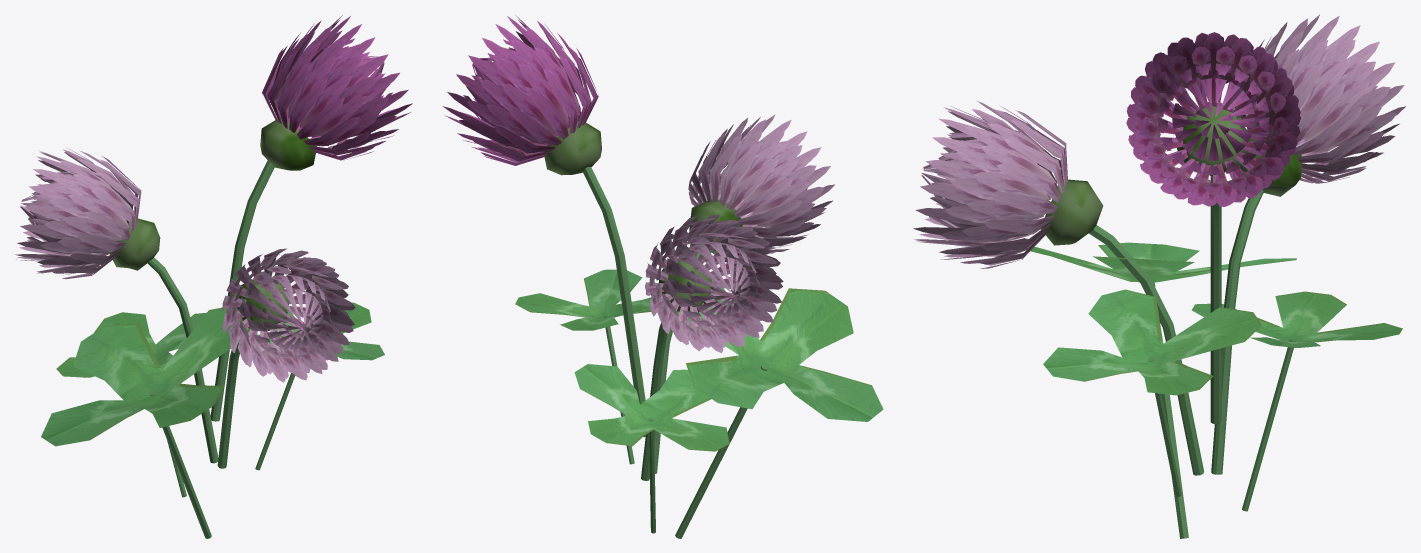
File: clovers.fbx
The picture shows the model from 3 angles, left to right: view 1: azimuth 30°, elevation 25°; view 2: azimuth 150°, elevation 25°; view 3: azimuth 270°, elevation 25°; orthographic projection. The views are drawn at different scales.
Parts seen in each view (by area): view 1: clover10, clover11; view 2: clover10, clover11; view 3: clover10, clover11.
Part boxes in pixels (x1,y1,x2,y2): clover10: (15,15,412,468); clover11: (41,302,384,538); clover10: (443,15,834,480); clover11: (515,269,883,538); clover10: (913,14,1405,475); clover11: (1030,242,1402,538).
Size of the model in its own units: 10.72 by 12.78 by 9.67.
2 materials, 2 textured.
